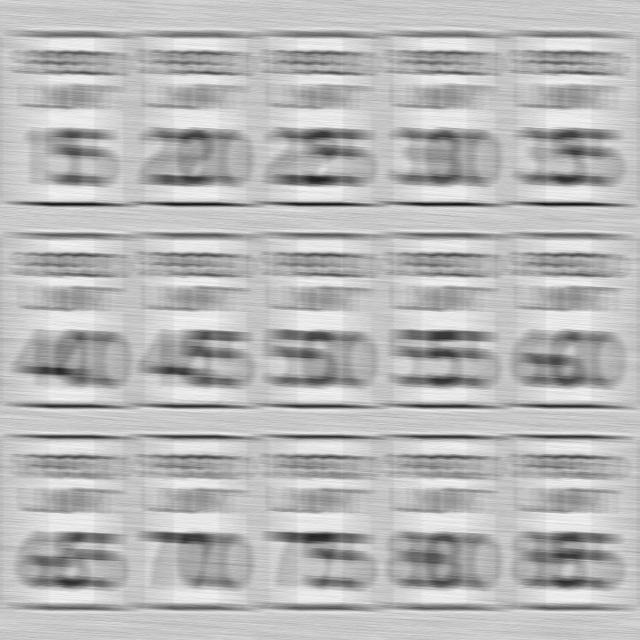speedLimit15: (11, 23, 129, 209)
speedLimit20: (139, 29, 255, 214)
speedLimit25: (261, 30, 377, 209)
speedLimit30: (384, 24, 500, 209)
speedLimit35: (512, 25, 628, 207)
speedLimit40: (11, 232, 129, 411)
speedLimit45: (136, 229, 252, 408)
speedLimit50: (261, 234, 377, 406)
speedLimit55: (388, 229, 501, 414)
speedLimit60: (515, 224, 623, 413)
speedLimit65: (12, 433, 126, 611)
speedLimit70: (139, 429, 255, 615)
speedLimit75: (264, 426, 374, 608)
speedLimit80: (385, 433, 504, 608)
speedLimit85: (511, 422, 624, 614)
